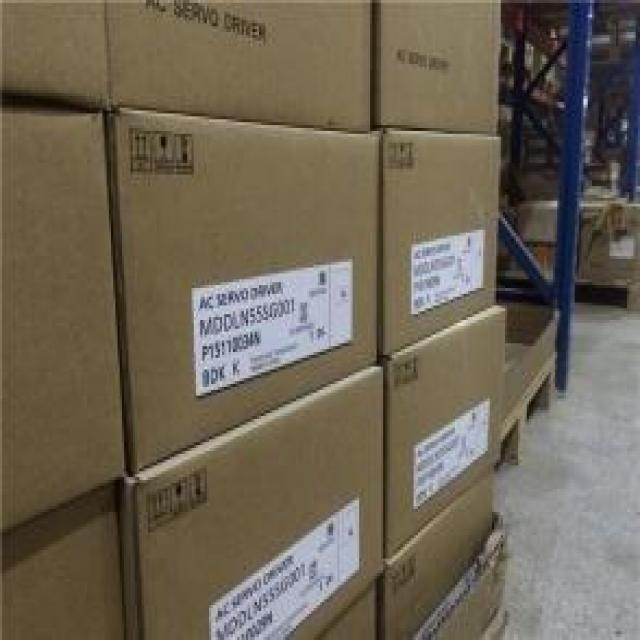box: (106, 107, 381, 477), (119, 369, 388, 640), (100, 0, 372, 129), (378, 306, 510, 558), (380, 123, 503, 352), (373, 0, 508, 130)
